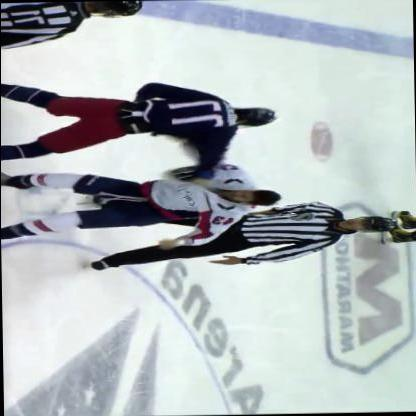voilence: (1, 76, 285, 254)
